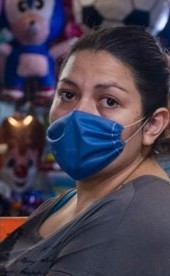with_mask: (43, 30, 168, 195)
